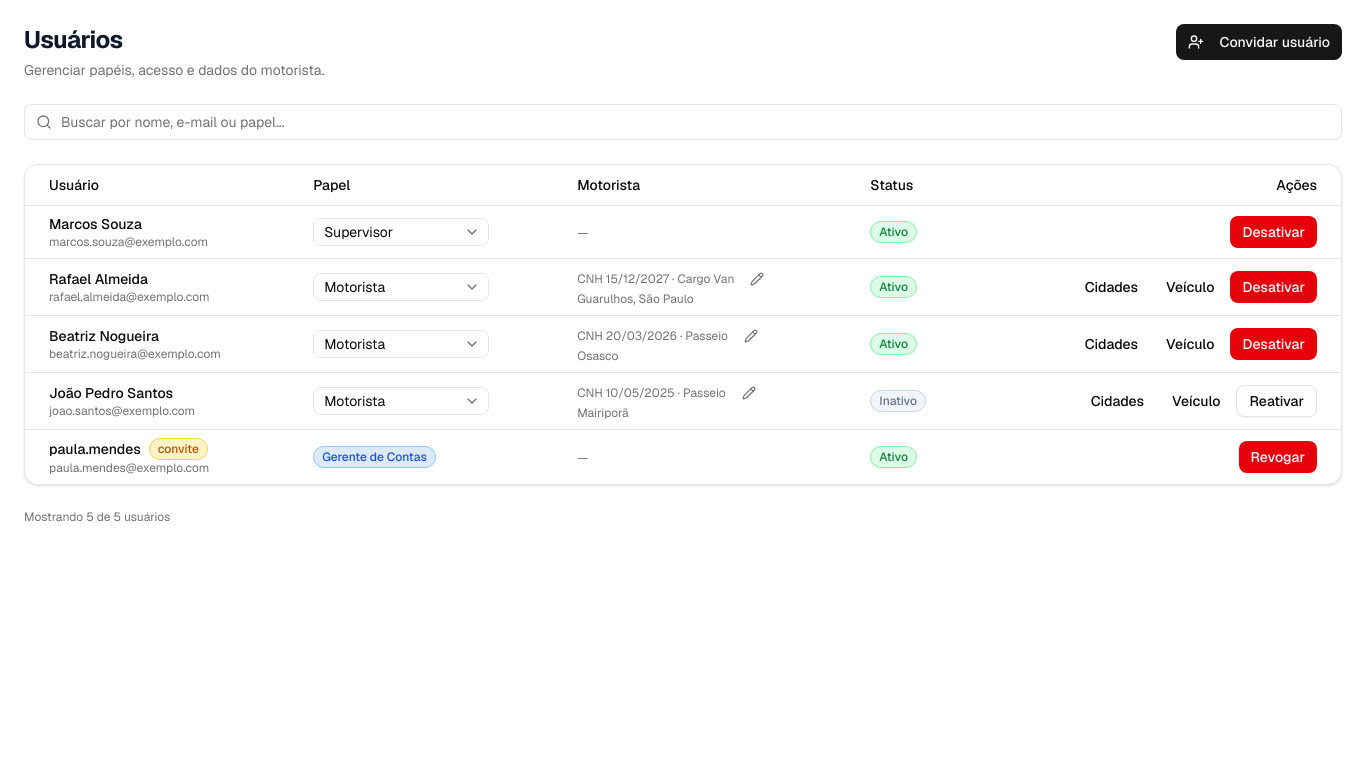
Test case: UserManagementClient — ações destrutivas acessíveis › ConfirmDialog de desativação diz claramente o que vai acontecer e com quem
Click the button with aria-label "Desativar Rafael Almeida".
click(1274, 286)  # box [1230,270,1317,302]
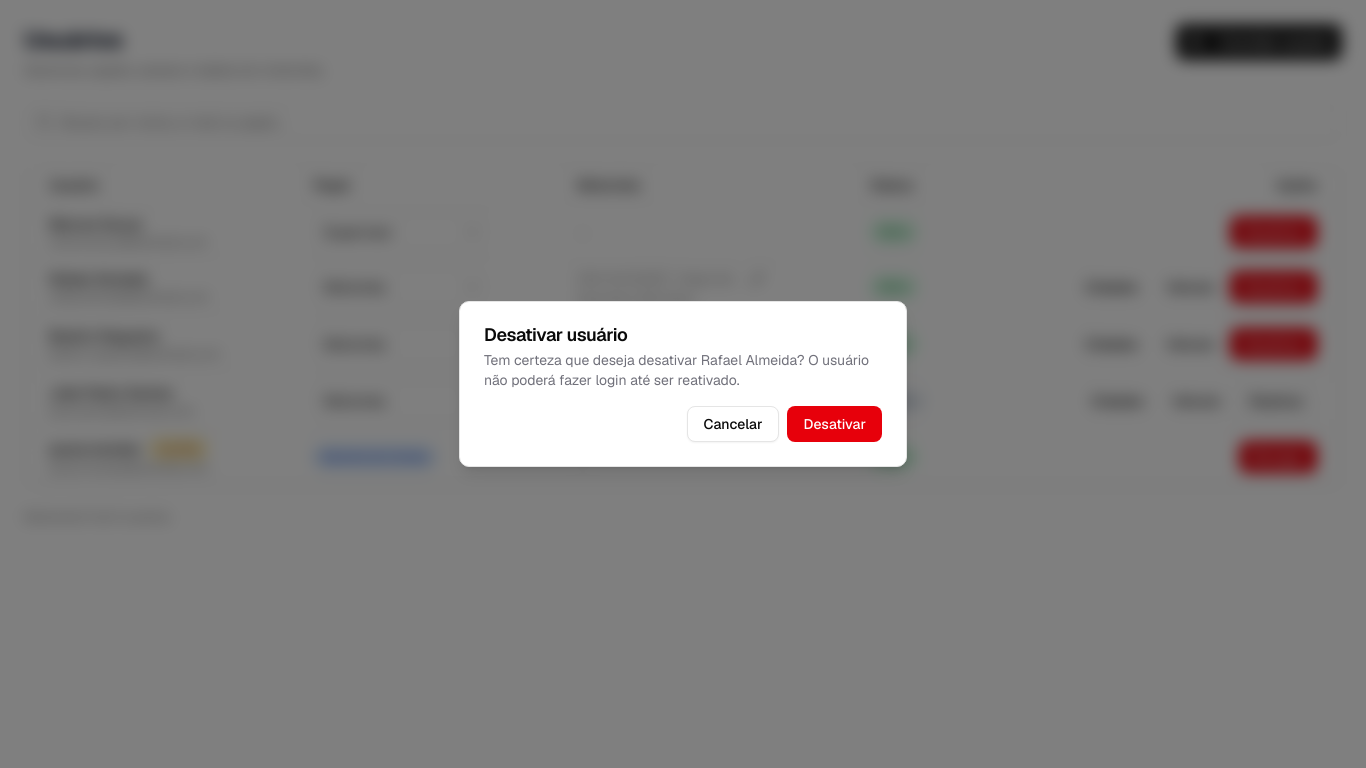
Check: the heading "Desativar usuário" is shown, box [484,323,627,346]
Check: the text "não poderá fazer login até ser reativado" is shown, box [484,351,869,389]
